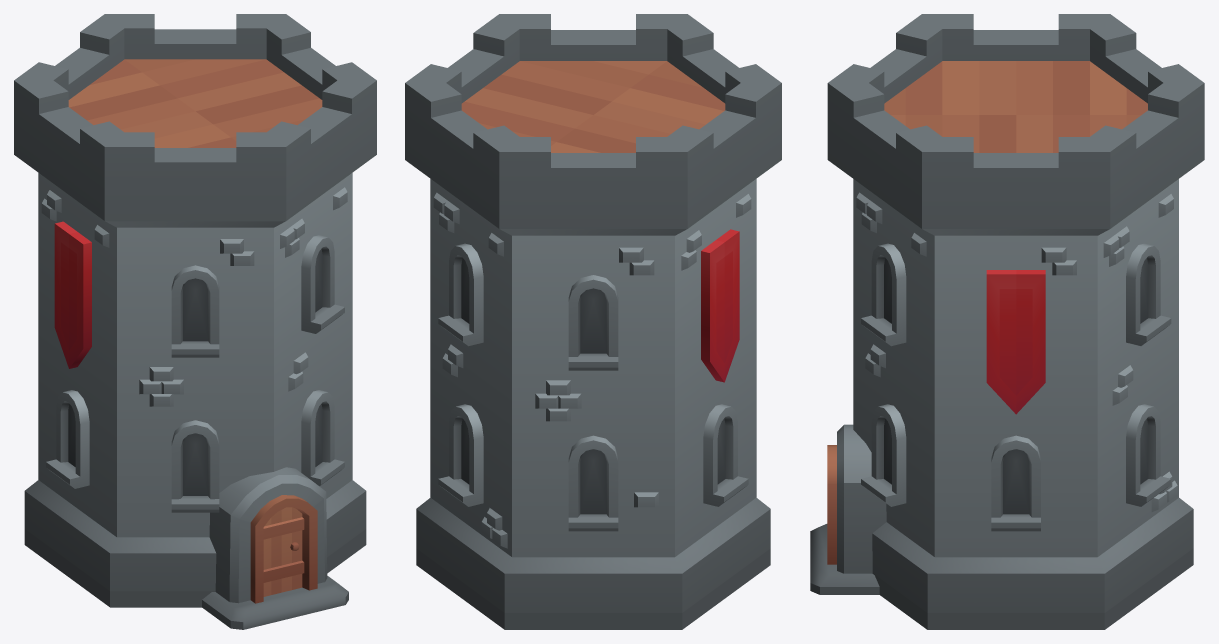
File: building_tower_base_red.glb
3 views of the same model, side by side, from view 1: azimuth 30°, elevation 25°; view 2: azimuth 150°, elevation 25°; view 3: azimuth 270°, elevation 25° (orthographic). The views are drawn at different scales.
Visible parts, largest first — view 1: building_tower_base_red; view 2: building_tower_base_red; view 3: building_tower_base_red.
Part boxes in pixels (box(x1,y1,x2,y2)): building_tower_base_red: box(14, 14, 376, 629); building_tower_base_red: box(405, 14, 781, 629); building_tower_base_red: box(810, 14, 1204, 629).
Bounding box in the file's own units: 0.9297 × 1.5 × 1.11.
1 material, 1 textured.
